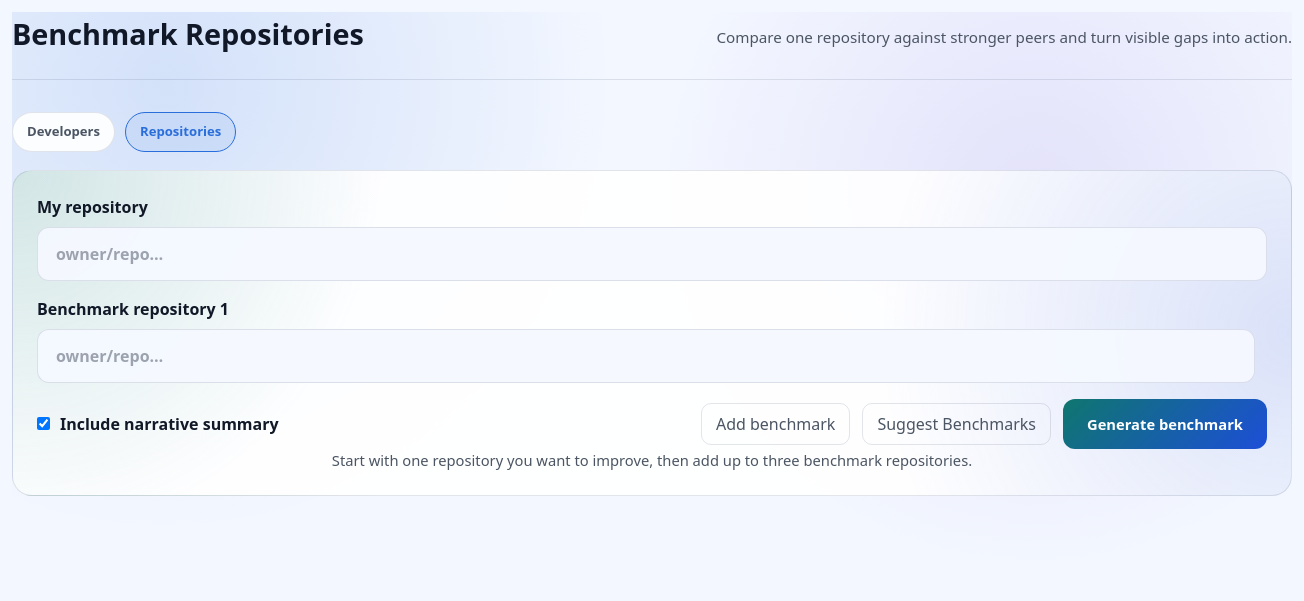
Test case: Suggestion UI (Requirements 7.1, 7.6) › loading state › shows loading text while fetching suggestions
This screenshot has width=1304, height=601.
Type "owner/myrepo" into the field with placeholder "owner/repo…".
click(652, 254); type("owner/myrepo")  # box [37, 227, 1267, 281]
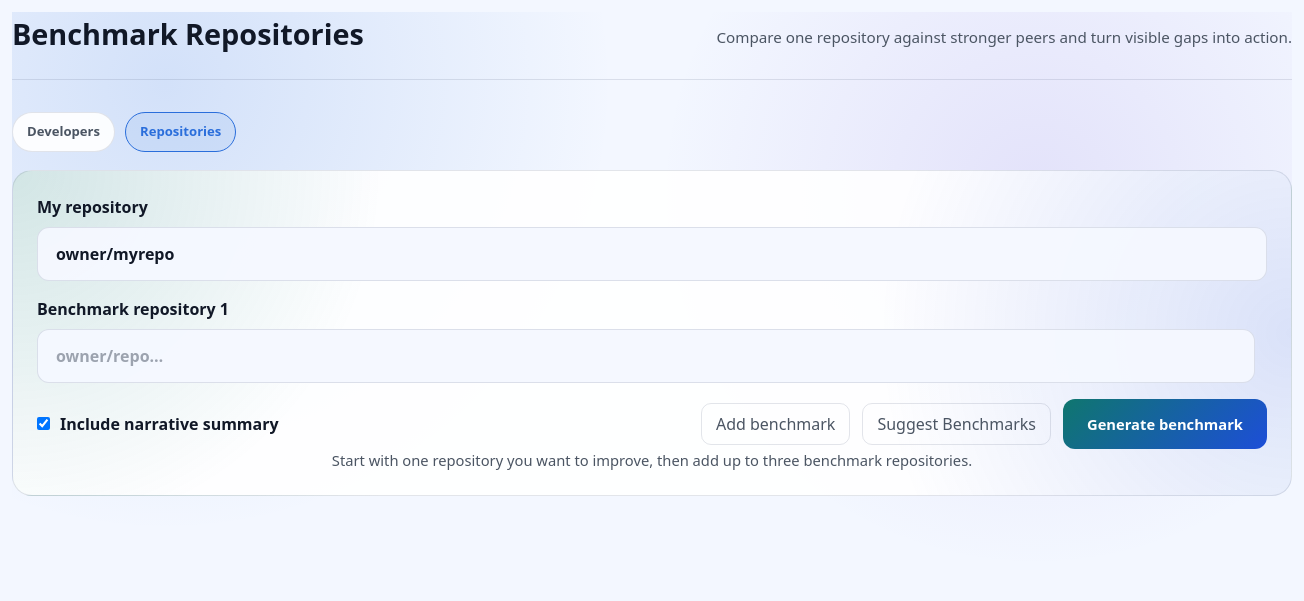
Click the button "Suggest Benchmarks".
click(957, 424)  # box [862, 403, 1051, 445]
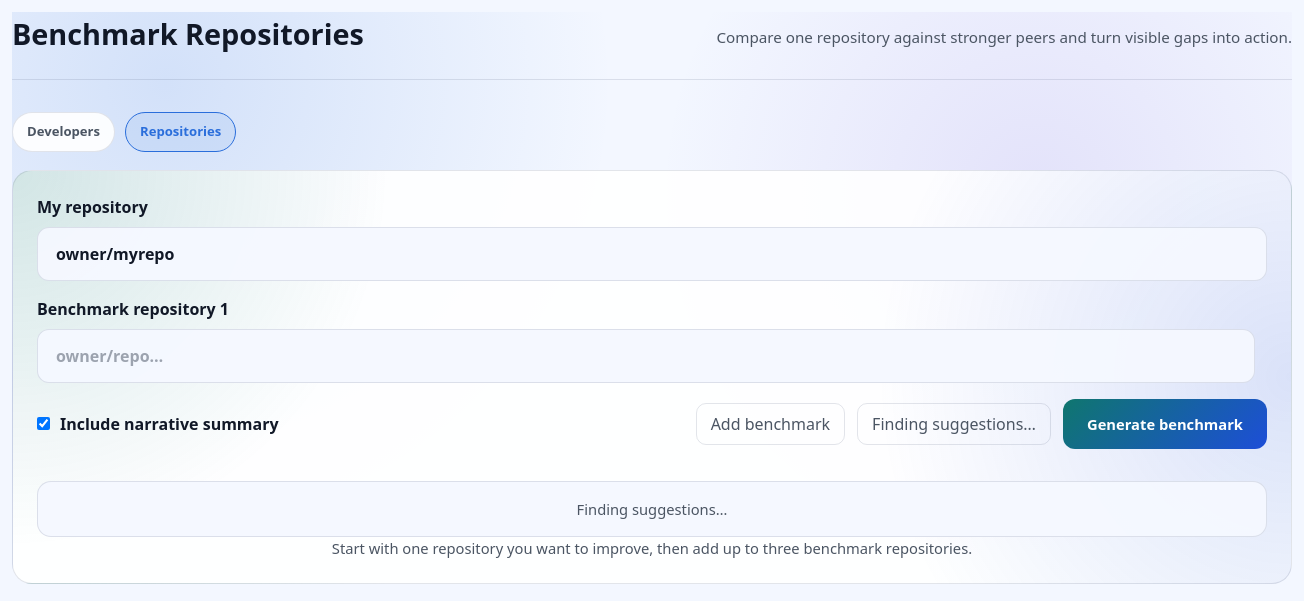
Expected: the button "Finding suggestions…" is shown, [857, 403, 1051, 445]
